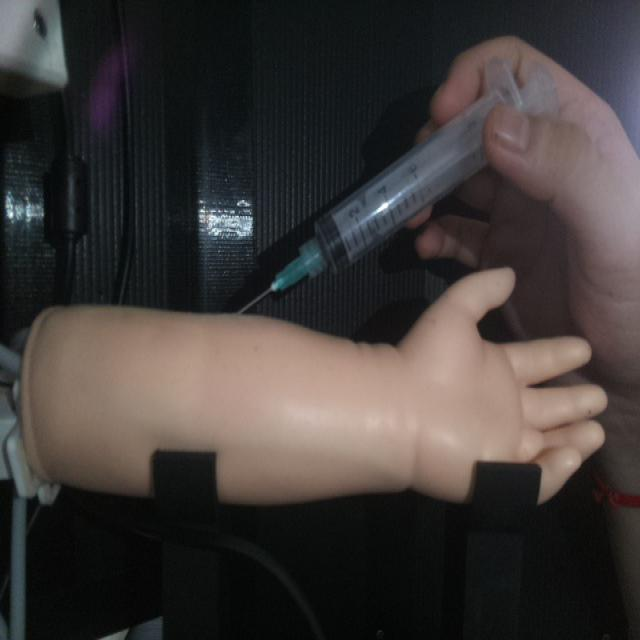Above 30 degrees: (229, 55, 558, 316)
